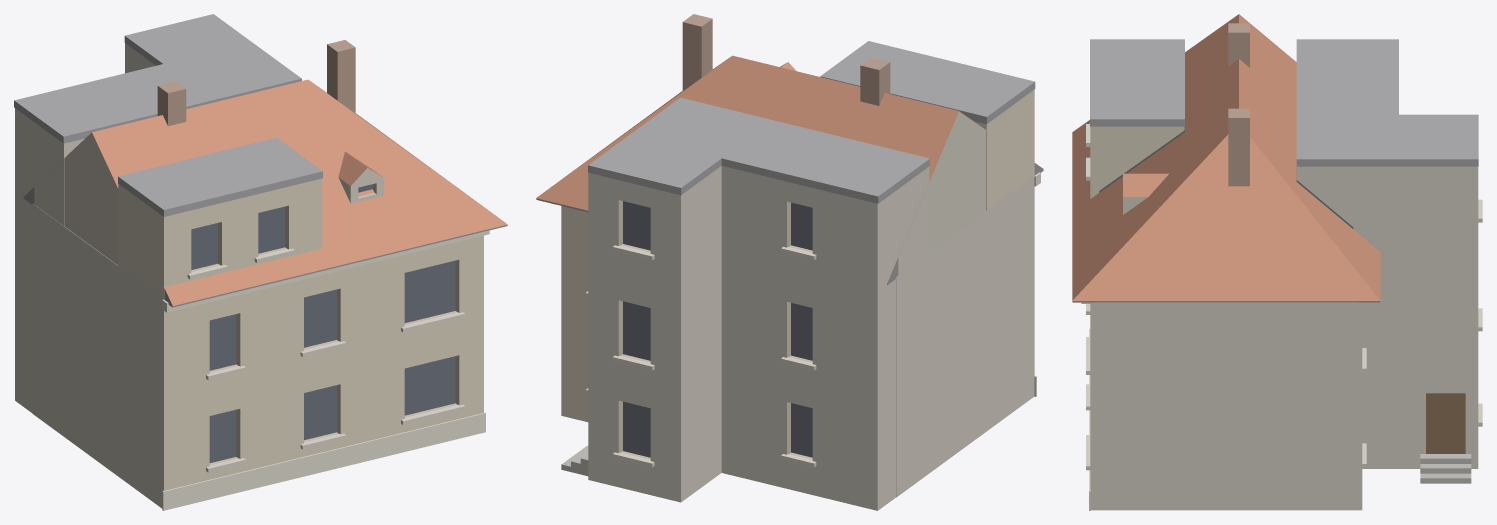
3 views of the same model, side by side, from view 1: azimuth 30°, elevation 25°; view 2: azimuth 150°, elevation 25°; view 3: azimuth 270°, elevation 25° (orthographic). The views are drawn at different scales.
Parts seen in each view (by area): view 1: CP_1907_Masonry, CP_1907_Roof, CP_1907_WingRoof_vol_mansard_rear, CP_1907_Vol_mansard_front_Masonry, CP_1907_WingRoof_vol_mansard_front, CP_1907_Vol_mansard_rear_Masonry, CP_1907_Cornice_main_plinth_0, CP_1907_AtticClosure, CP_1907_Chimney_0, CP_1907_Cornice_main_eave_0, CP_1907_Dormer_d1, CP_1907_Chimney_1 (+1 smaller); view 2: CP_1907_Vol_mansard_rear_Masonry, CP_1907_Masonry, CP_1907_WingRoof_vol_mansard_rear, CP_1907_Roof, CP_1907_WingRoof_vol_mansard_front, CP_1907_AtticClosure, CP_1907_Vol_mansard_front_Masonry, CP_1907_Chimney_0, CP_1907_Chimney_1; view 3: CP_1907_Masonry, CP_1907_Roof, CP_1907_Vol_mansard_rear_Masonry, CP_1907_WingRoof_vol_mansard_rear, CP_1907_WingRoof_vol_mansard_front, CP_1907_Vol_mansard_front_Masonry, CP_1907_Chimney_0, CP_1907_Dormer_d1, CP_1907_Chimney_1, CP_1907_Step_0_0, CP_1907_Roof_EaveClosure_1, CP_1907_Step_0_1 (+1 smaller).
Boxes of the visible parts, left/top/right/bottom form: CP_1907_Masonry: left=32, top=203, right=483, bottom=508; CP_1907_Roof: left=24, top=79, right=507, bottom=305; CP_1907_WingRoof_vol_mansard_rear: left=14, top=14, right=301, bottom=143; CP_1907_Vol_mansard_front_Masonry: left=118, top=178, right=322, bottom=299; CP_1907_WingRoof_vol_mansard_front: left=118, top=137, right=322, bottom=216; CP_1907_Vol_mansard_rear_Masonry: left=15, top=43, right=155, bottom=412; CP_1907_Cornice_main_plinth_0: left=162, top=412, right=485, bottom=510; CP_1907_AtticClosure: left=64, top=133, right=118, bottom=265; CP_1907_Chimney_0: left=327, top=40, right=355, bottom=113; CP_1907_Cornice_main_eave_0: left=162, top=230, right=489, bottom=312; CP_1907_Dormer_d1: left=338, top=151, right=384, bottom=203; CP_1907_Chimney_1: left=157, top=81, right=186, bottom=126; CP_1907_Vol_mansard_rear_Masonry: left=588, top=166, right=929, bottom=510; CP_1907_Masonry: left=561, top=176, right=1034, bottom=497; CP_1907_WingRoof_vol_mansard_rear: left=588, top=97, right=929, bottom=203; CP_1907_Roof: left=536, top=55, right=1043, bottom=283; CP_1907_WingRoof_vol_mansard_front: left=820, top=41, right=1035, bottom=124; CP_1907_AtticClosure: left=929, top=111, right=985, bottom=251; CP_1907_Vol_mansard_front_Masonry: left=975, top=89, right=1034, bottom=210; CP_1907_Chimney_0: left=682, top=14, right=712, bottom=90; CP_1907_Chimney_1: left=860, top=57, right=890, bottom=105; CP_1907_Masonry: left=1090, top=302, right=1362, bottom=510; CP_1907_Roof: left=1072, top=14, right=1380, bottom=300; CP_1907_Vol_mansard_rear_Masonry: left=1297, top=166, right=1478, bottom=468; CP_1907_WingRoof_vol_mansard_rear: left=1296, top=39, right=1478, bottom=166; CP_1907_WingRoof_vol_mansard_front: left=1090, top=39, right=1184, bottom=126; CP_1907_Vol_mansard_front_Masonry: left=1090, top=126, right=1184, bottom=198; CP_1907_Chimney_0: left=1228, top=108, right=1249, bottom=186; CP_1907_Dormer_d1: left=1123, top=173, right=1168, bottom=214; CP_1907_Chimney_1: left=1228, top=23, right=1249, bottom=67; CP_1907_Step_0_0: left=1420, top=473, right=1471, bottom=483; CP_1907_Roof_EaveClosure_1: left=1072, top=301, right=1380, bottom=302; CP_1907_Step_0_1: left=1420, top=464, right=1471, bottom=473.
Bounding box in the file's own units: 11.05 × 11 × 11.32.
